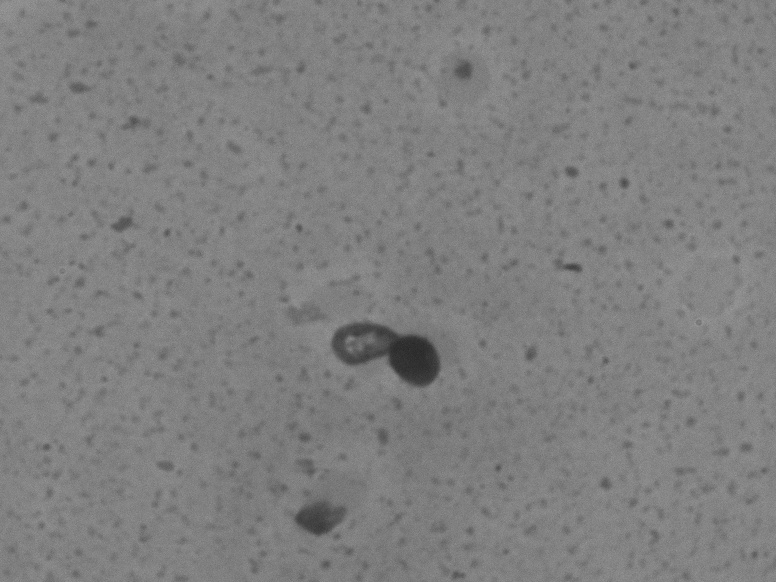Abnormal: (318, 283, 454, 451)
